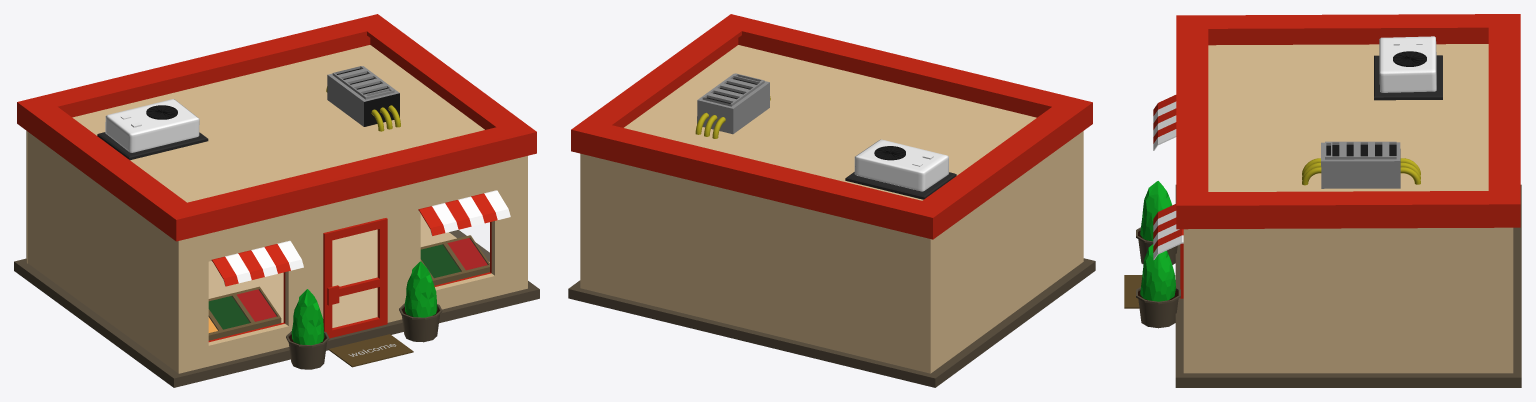
File: market.glb
3 views of the same model, side by side, from view 1: azimuth 30°, elevation 25°; view 2: azimuth 150°, elevation 25°; view 3: azimuth 270°, elevation 25° (orthographic). The views are drawn at different scales.
Visible parts, largest first — view 1: Box001, Box002, Box004, Box013, Box012, Box009, Box008, Box011, Box010, GeoSphere001, GeoSphere002, Cylinder002 (+2 smaller); view 2: Box001, Box002, Box004, Box013, Box003; view 3: Box001, Box002, Box013, Box004, GeoSphere001, Box008, Cylinder002, Box003, Box009, GeoSphere002, Box010, Cylinder001 (+1 smaller).
Part boxes in pixels (x1,y1,x2,y2): Box001: (17, 14, 536, 373); Box002: (14, 214, 539, 387); Box004: (105, 99, 199, 152); Box013: (327, 66, 399, 126); Box012: (208, 286, 281, 340); Box009: (211, 240, 303, 286); Box008: (418, 190, 510, 235); Box011: (420, 235, 489, 285); Box010: (328, 334, 413, 367); GeoSphere001: (404, 261, 437, 317); GeoSphere002: (291, 289, 324, 345); Cylinder002: (399, 303, 442, 342); Box001: (571, 14, 1092, 373); Box002: (568, 258, 1095, 387); Box004: (854, 139, 948, 191); Box013: (697, 73, 769, 134); Box003: (845, 172, 956, 199); Box001: (1176, 14, 1520, 373); Box002: (1175, 184, 1521, 387); Box013: (1321, 141, 1400, 188); Box004: (1379, 36, 1436, 92); GeoSphere001: (1140, 244, 1175, 301); Box008: (1153, 204, 1183, 259); Cylinder002: (1136, 287, 1180, 328); Box003: (1374, 55, 1442, 100); Box009: (1153, 95, 1176, 150); GeoSphere002: (1140, 181, 1171, 241); Box010: (1124, 275, 1175, 308); Cylinder001: (1393, 51, 1426, 66).
Size of the model in its own units: 10 by 4.61 by 8.69.
